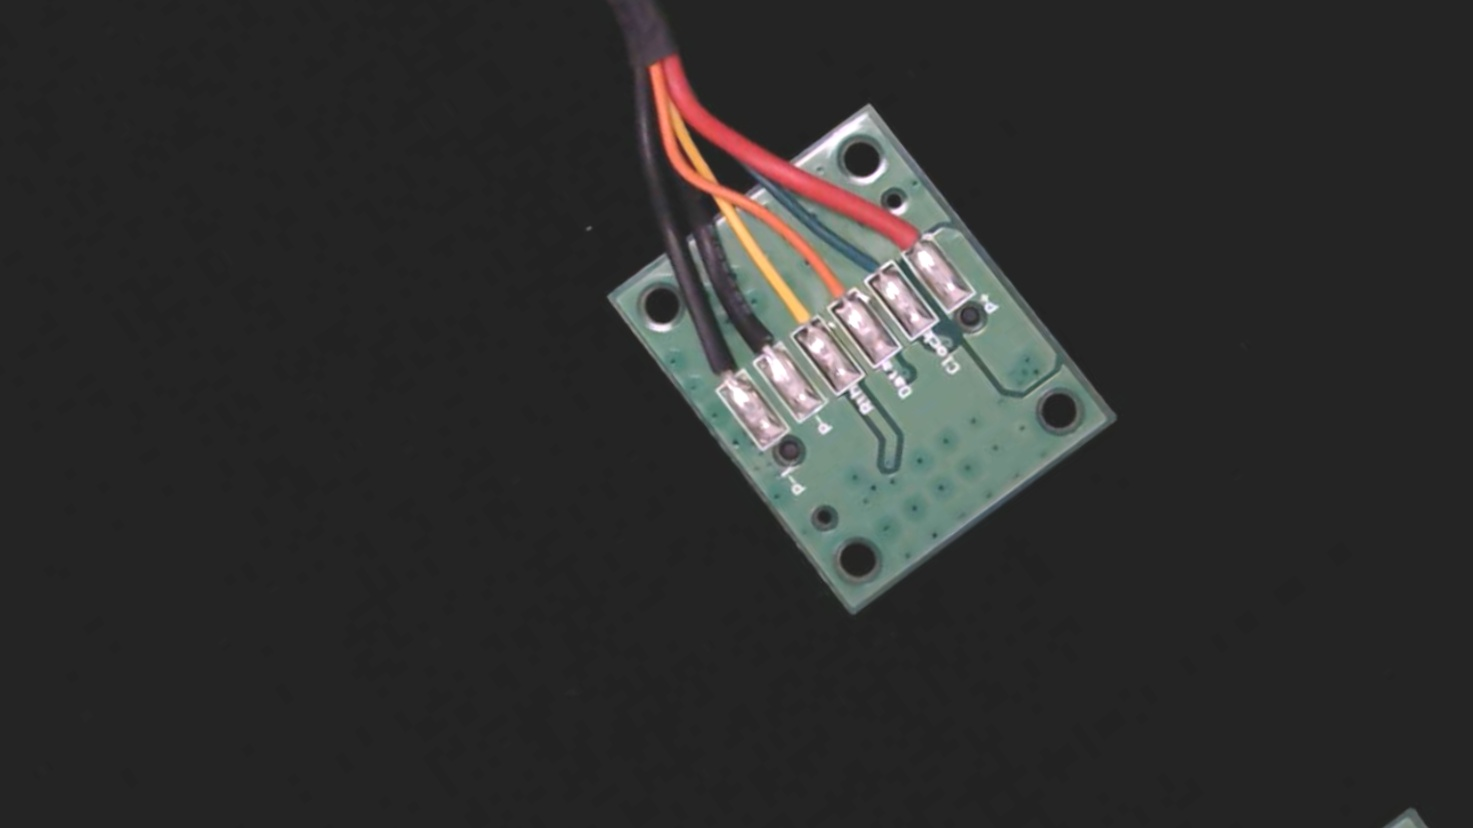Black: (710, 284, 797, 380)
Black1: (674, 318, 755, 407)
Green: (833, 224, 907, 303)
Orange: (786, 235, 870, 327)
Red: (862, 182, 947, 273)
Yellow: (748, 257, 835, 353)
